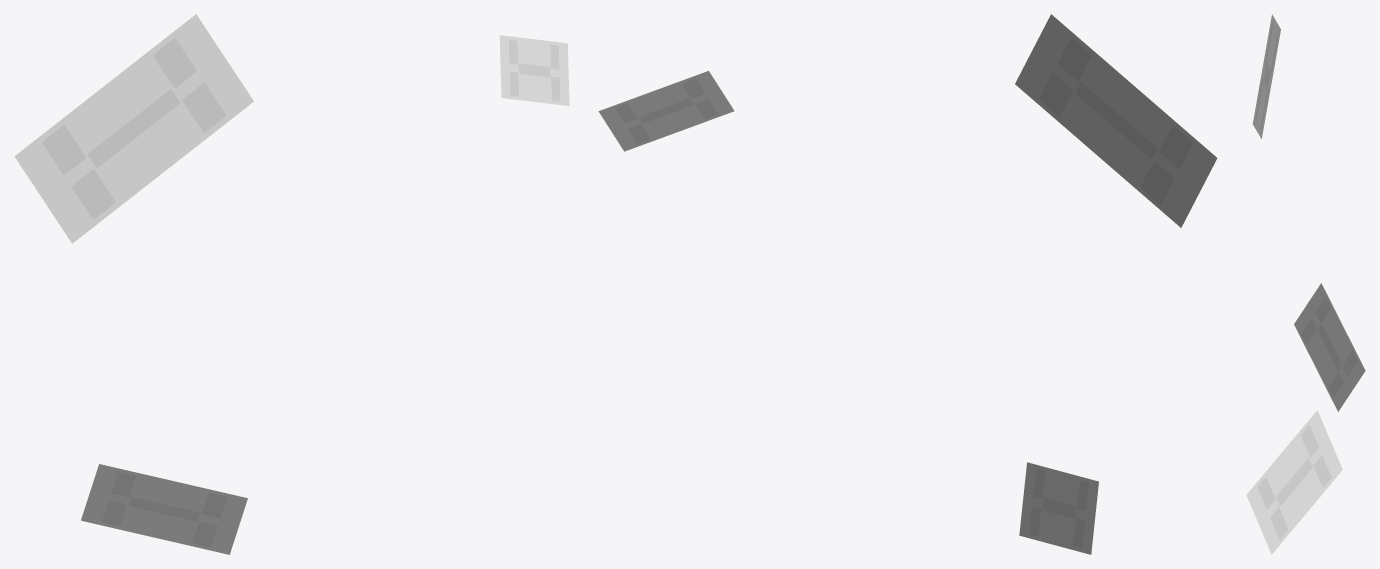
The picture shows the model from 3 angles, left to right: view 1: azimuth 30°, elevation 25°; view 2: azimuth 150°, elevation 25°; view 3: azimuth 270°, elevation 25°; orthographic projection. The views are drawn at different scales.
Parts seen in each view (by area): view 1: H, H.001, H.002; view 2: H, H.002, H.001; view 3: H.001, H.002, H.
Boxes of the visible parts, left/top/right/bottom form: H: left=14, top=14, right=253, bottom=243; H.001: left=81, top=464, right=247, bottom=554; H.002: left=499, top=35, right=569, bottom=105; H: left=1015, top=14, right=1217, bottom=227; H.002: left=598, top=71, right=734, bottom=151; H.001: left=1019, top=462, right=1098, bottom=554; H.001: left=1246, top=410, right=1342, bottom=554; H.002: left=1294, top=283, right=1365, bottom=411; H: left=1252, top=14, right=1280, bottom=138.
Bounding box in the file's own units: 9.99 × 8.77 × 1.8.
1 material, 1 textured.
